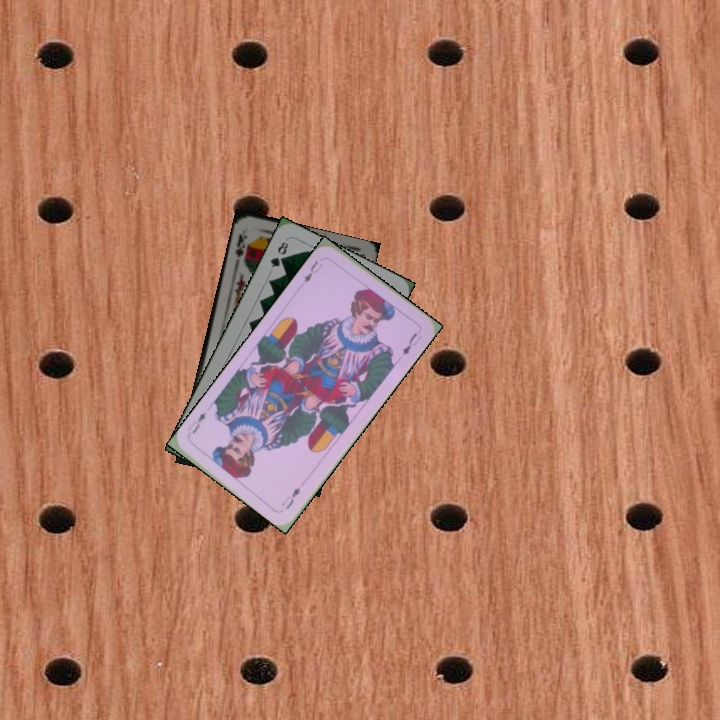EU: (277, 483, 303, 512), (300, 257, 325, 285)
G8: (266, 237, 291, 270)
SK: (231, 229, 251, 266)
